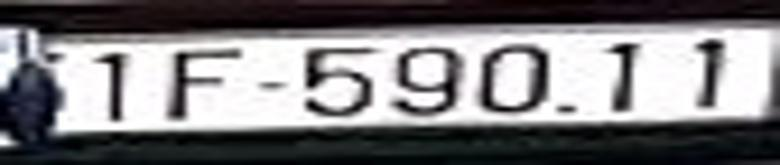-: (258, 76, 285, 89)
.: (556, 102, 578, 114)
0: (481, 42, 547, 113)
1: (605, 38, 638, 115), (96, 52, 127, 123), (695, 36, 724, 107)
5: (304, 46, 373, 120)
9: (394, 44, 455, 117)
F: (173, 49, 240, 119)
